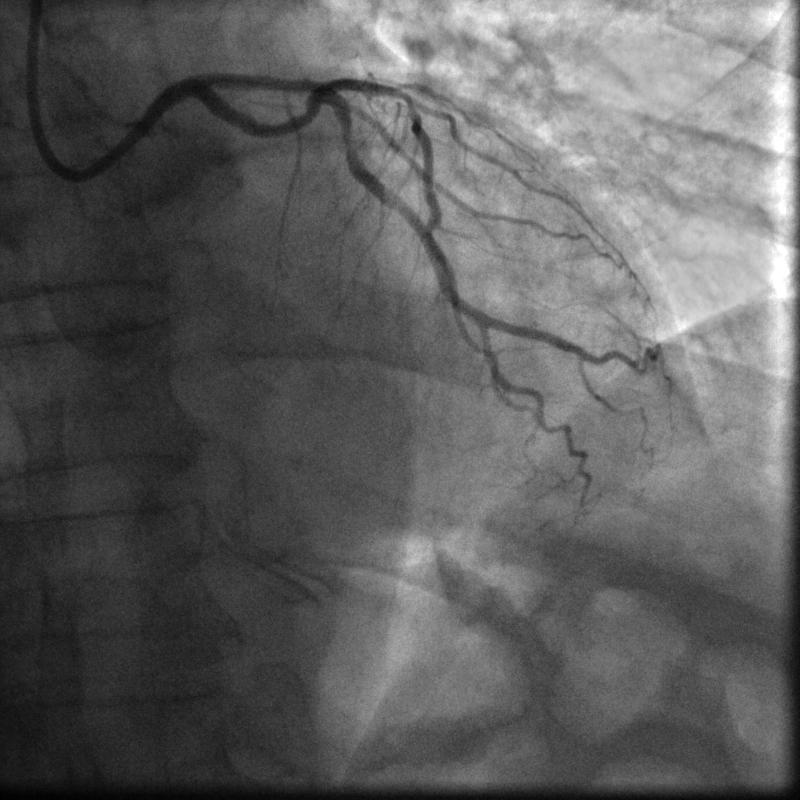Stenosis: (340, 124, 356, 148)
